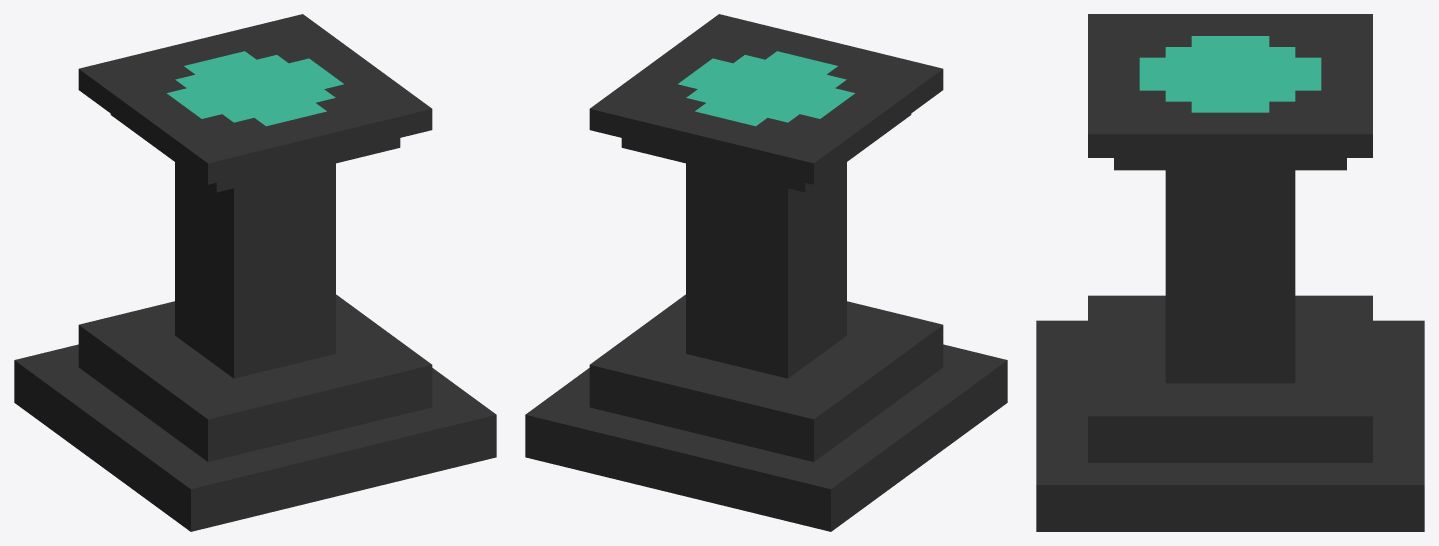
File: Portal_2.4.1.obj
3 views of the same model, side by side, from view 1: azimuth 30°, elevation 25°; view 2: azimuth 150°, elevation 25°; view 3: azimuth 270°, elevation 25° (orthographic). The views are drawn at different scales.
Size of the model in its own units: 1.5 by 1.6 by 1.5.
1 material, 1 textured.
